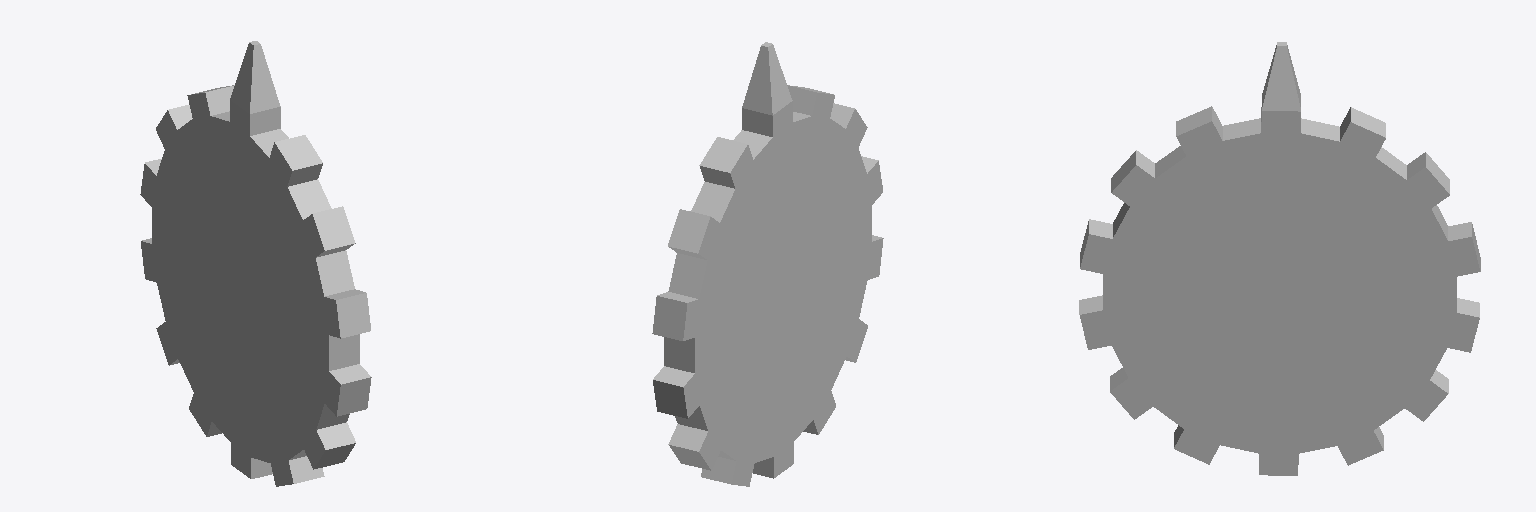
File: gear_000001.obj
The picture shows the model from 3 angles: view 1: azimuth 30°, elevation 25°; view 2: azimuth 150°, elevation 25°; view 3: azimuth 270°, elevation 25°; orthographic projection.
Parts seen in each view (by area): view 1: gear_Cylinder.001; view 2: gear_Cylinder.001; view 3: gear_Cylinder.001.
Part boxes in pixels (x1,y1,x2,y2): gear_Cylinder.001: (140, 41, 371, 486); gear_Cylinder.001: (652, 42, 883, 486); gear_Cylinder.001: (1079, 42, 1480, 475).
Bounding box in the file's own units: 0.1 × 1.32 × 1.13.